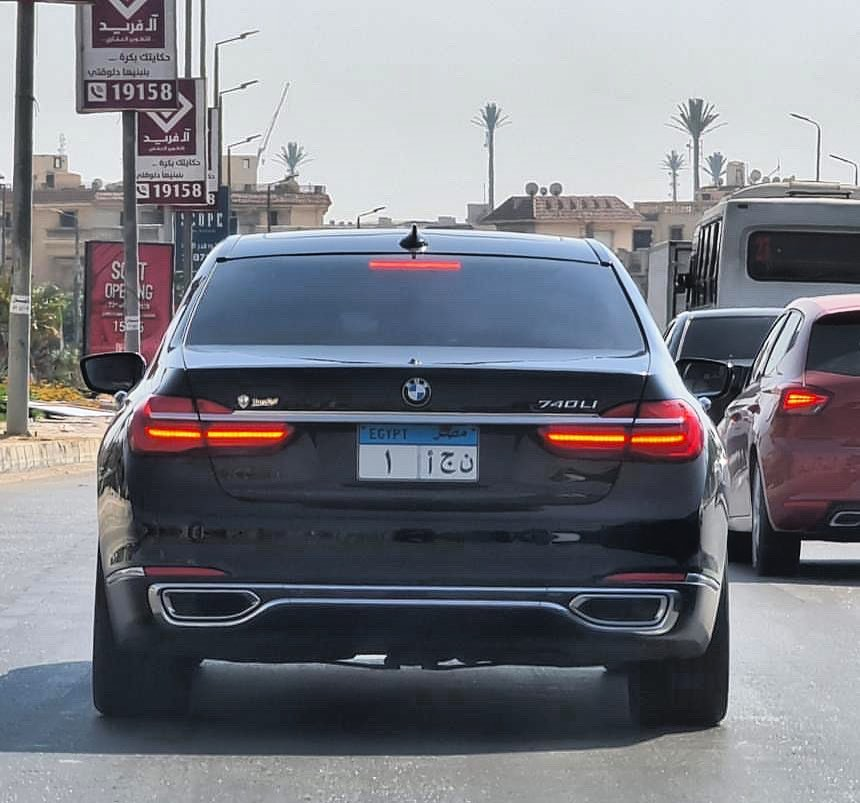carpl: (354, 440, 480, 481)
